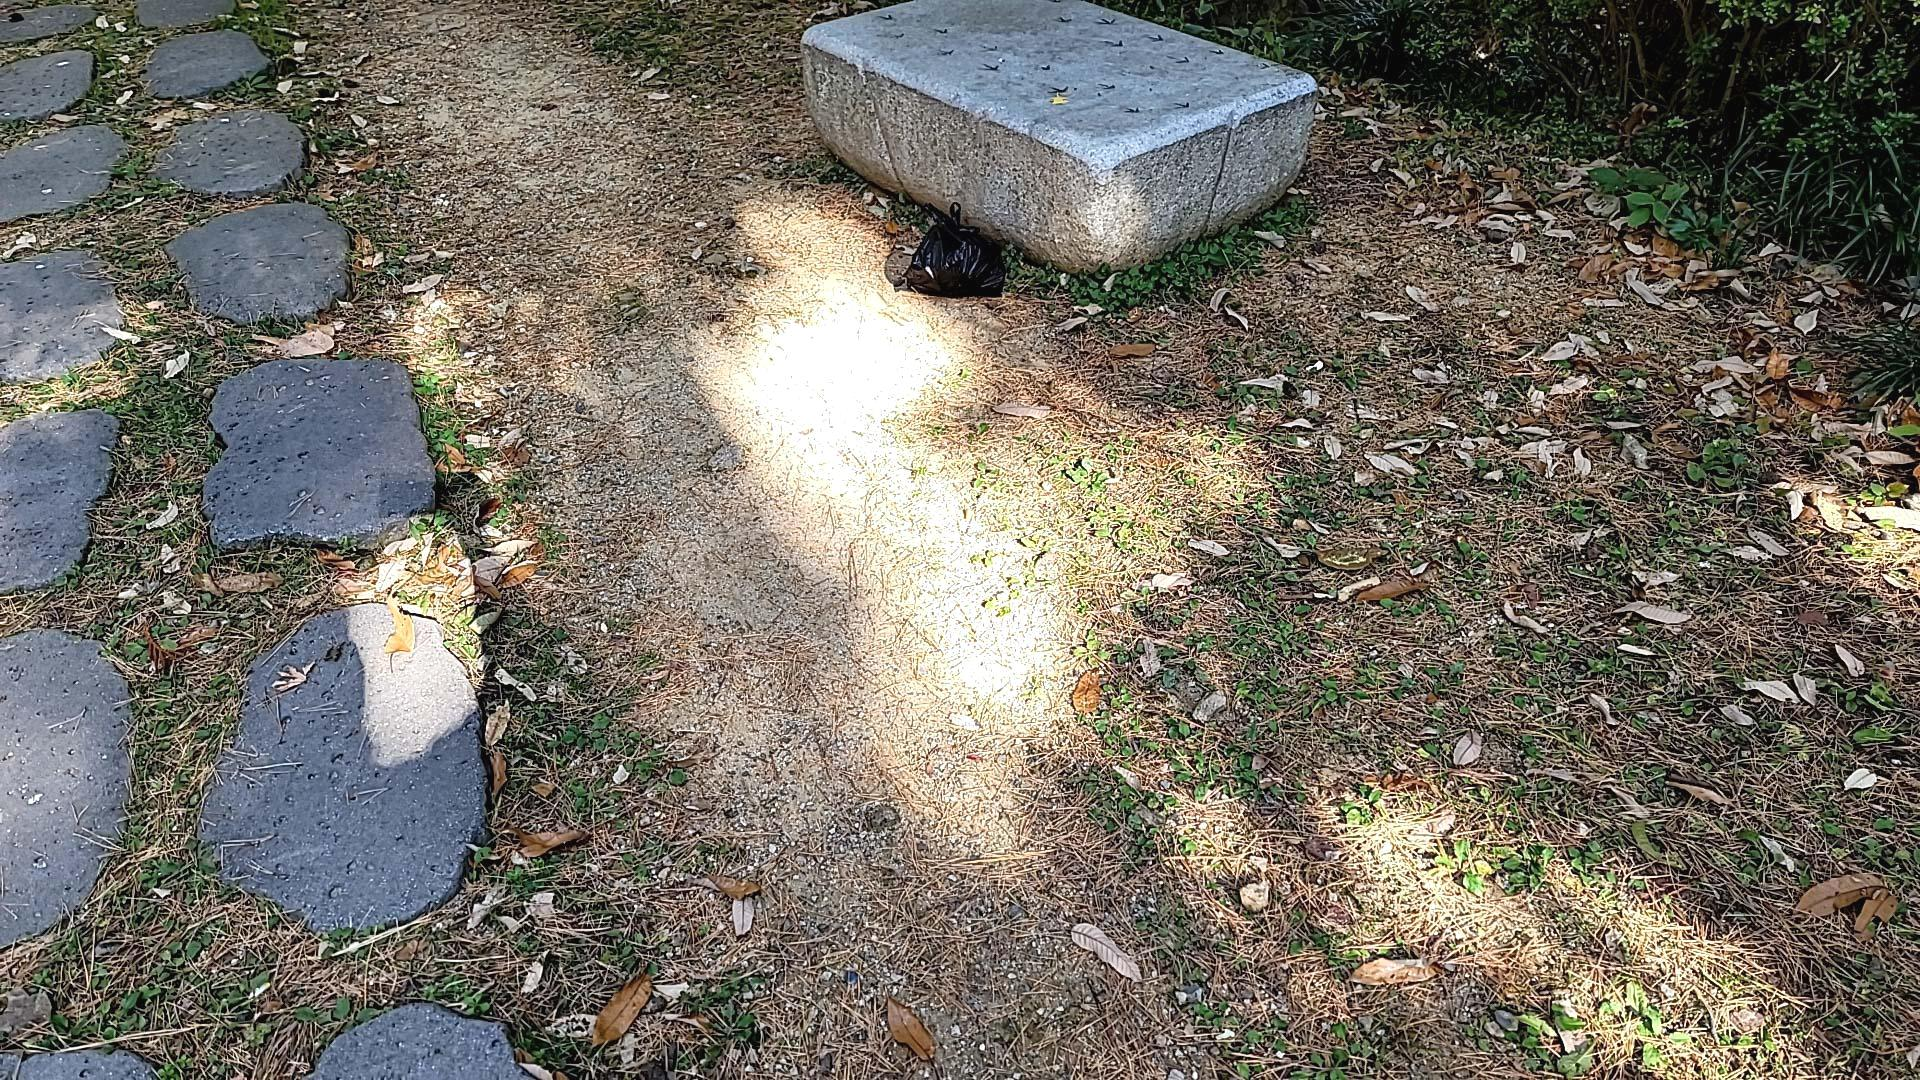black_bag: (894, 200, 1021, 303)
